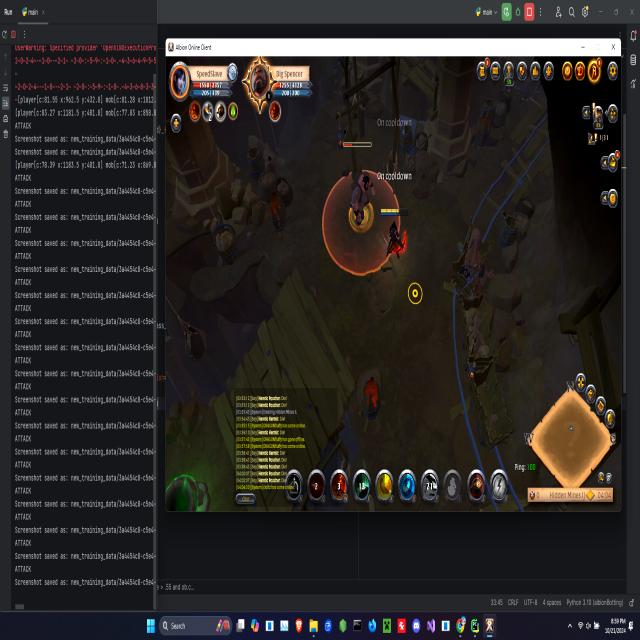ore: (342, 138, 379, 232), (514, 83, 531, 106), (532, 84, 542, 100)
red: (380, 208, 410, 259)
silver: (321, 163, 402, 275)
